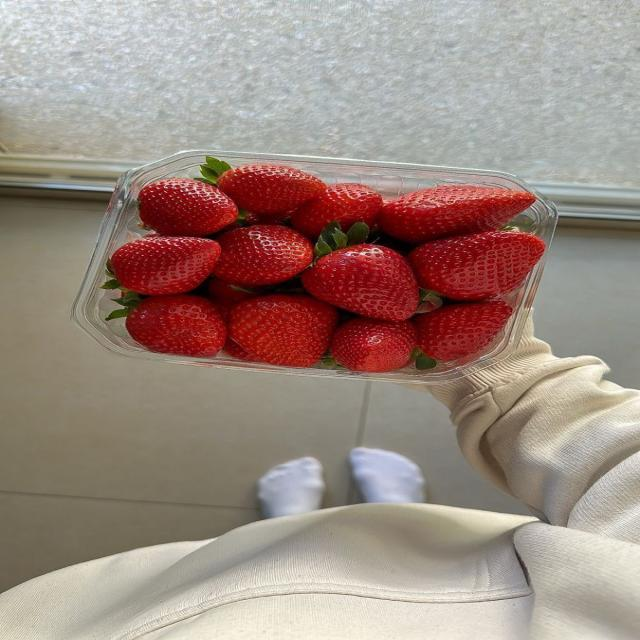strawberry: (409, 231, 545, 300), (379, 186, 535, 243), (302, 244, 418, 320), (229, 294, 337, 367), (110, 236, 220, 295), (126, 295, 226, 357), (214, 225, 312, 286), (414, 301, 512, 361), (139, 179, 237, 236), (217, 164, 326, 213), (292, 183, 382, 238), (330, 318, 417, 372), (207, 278, 261, 318), (208, 278, 260, 307), (224, 339, 259, 361)
